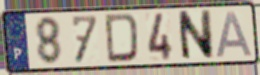4: (146, 11, 175, 62)
7: (70, 14, 99, 65)
8: (34, 15, 64, 67)
A: (214, 10, 255, 59)
D: (104, 12, 141, 64)
N: (176, 8, 215, 63)
